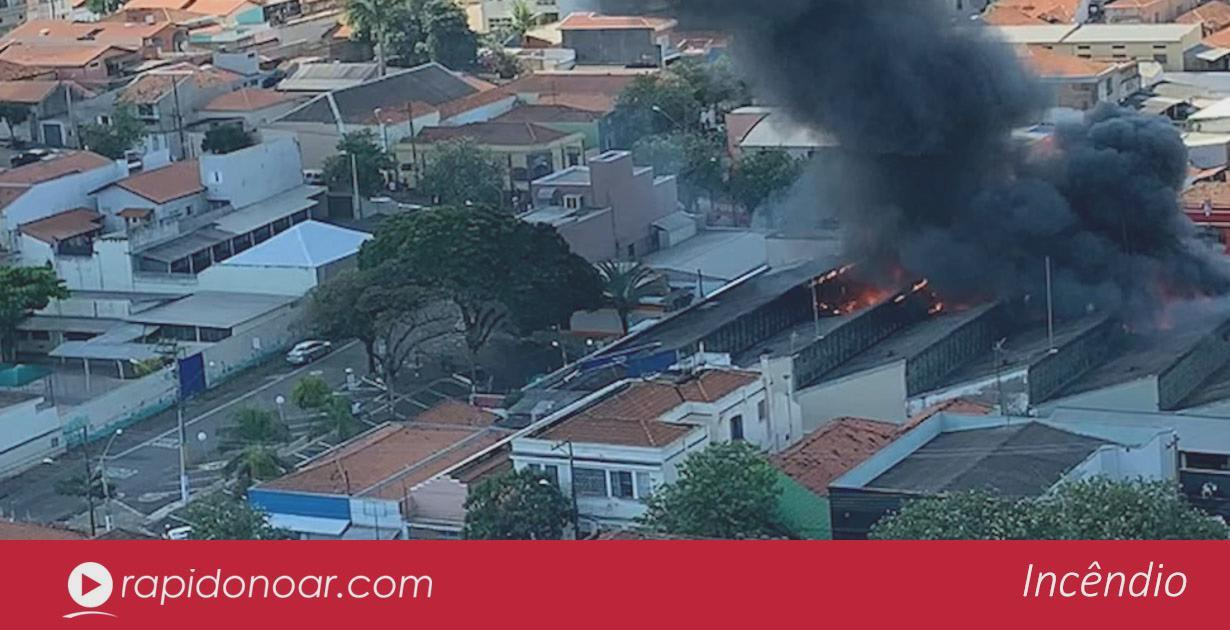Fire: (857, 287, 883, 306)
